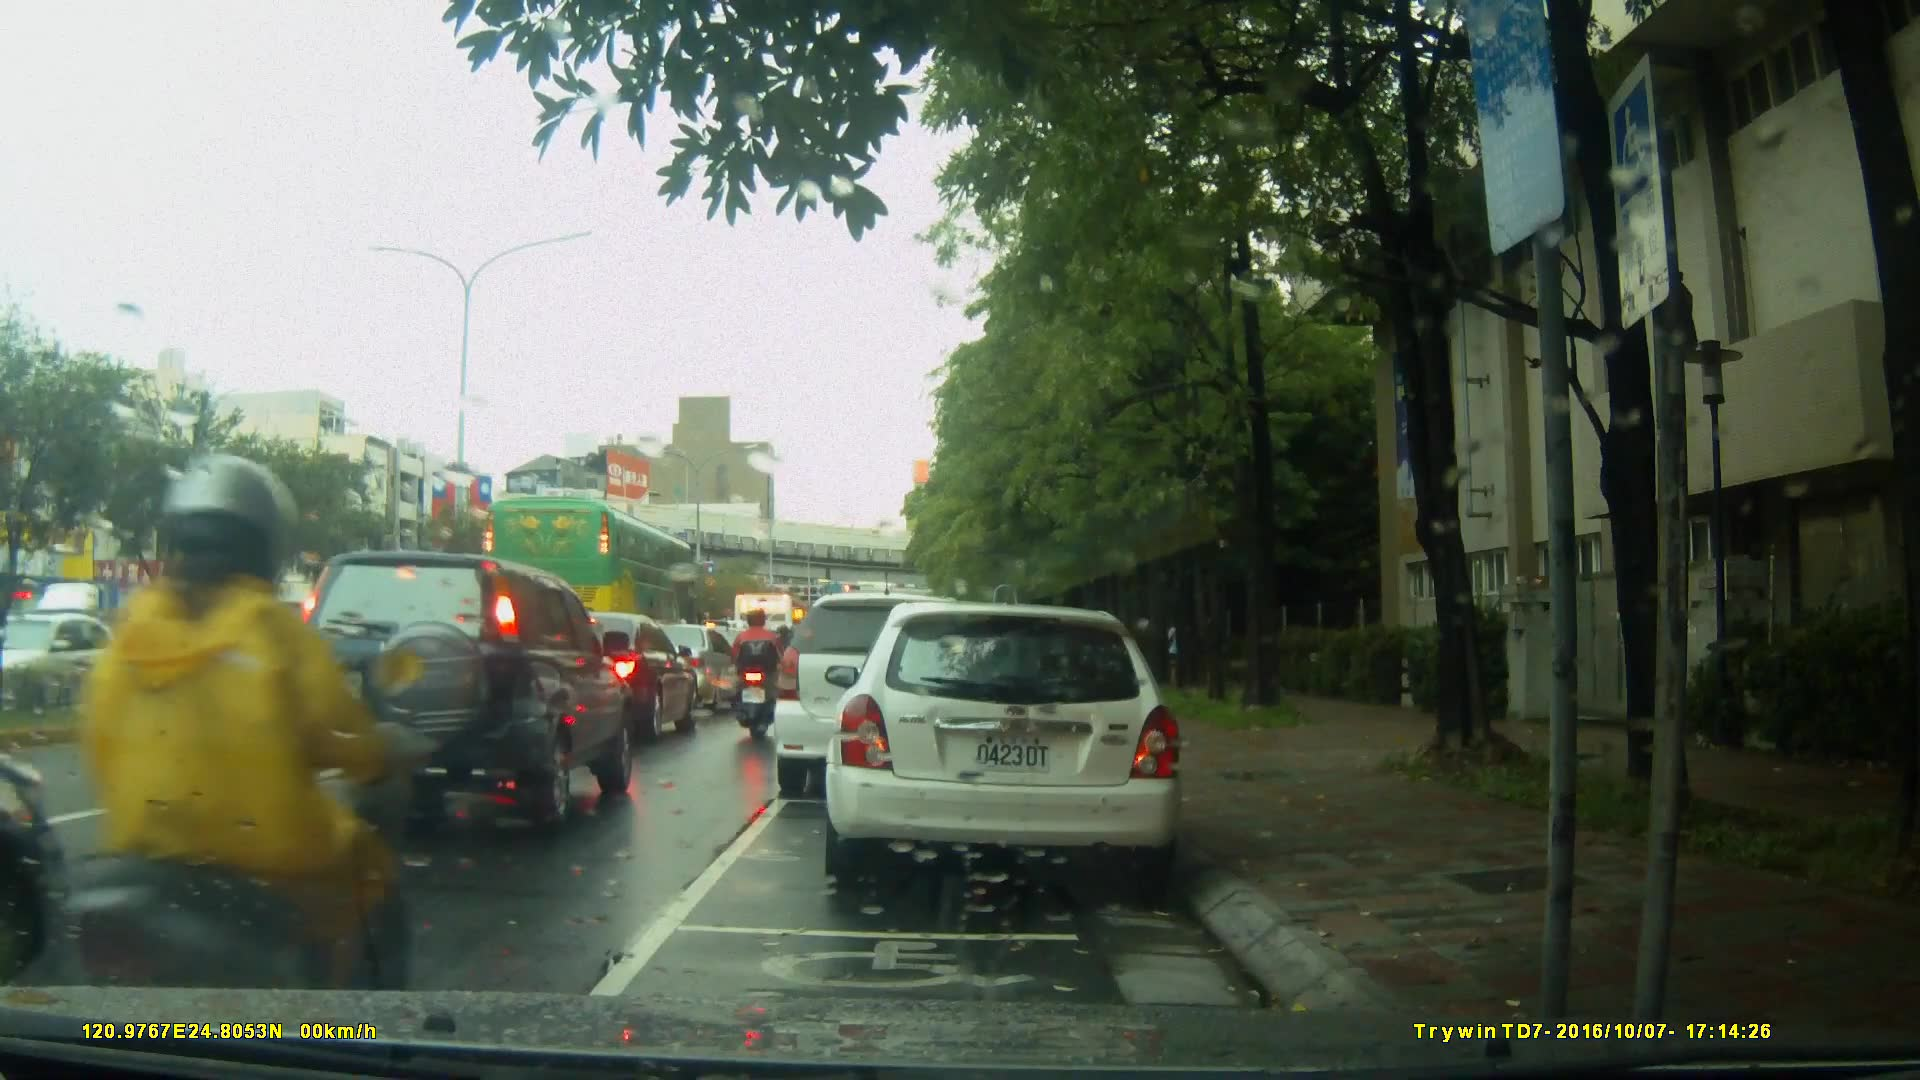rider: (60, 449, 416, 1078), (730, 612, 785, 736)
vehicle: (831, 592, 1196, 897), (284, 549, 621, 825), (770, 592, 999, 801), (478, 493, 714, 659), (506, 610, 702, 748), (1, 613, 164, 709), (22, 576, 164, 684), (633, 623, 749, 717)
